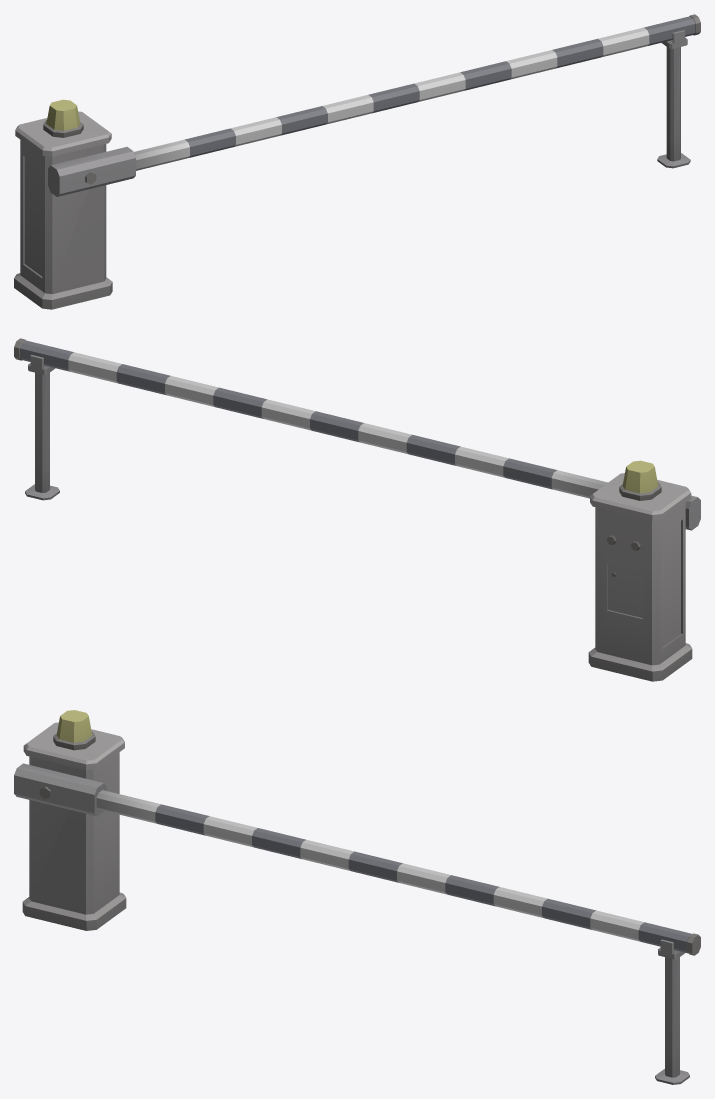
The model's file is barrier.glb.
3 renders of one model, top to bottom at view 1: azimuth 30°, elevation 25°; view 2: azimuth 150°, elevation 25°; view 3: azimuth 330°, elevation 25°, orthographic. The views are drawn at different scales.
Visible parts, largest first — view 1: barrier; view 2: barrier; view 3: barrier.
Part boxes in pixels (left/top/right/bottom): barrier: left=14, top=14, right=700, bottom=309; barrier: left=14, top=338, right=700, bottom=681; barrier: left=14, top=710, right=700, bottom=1084.
Size of the model in its own units: 4.23 by 1.15 by 0.519.
